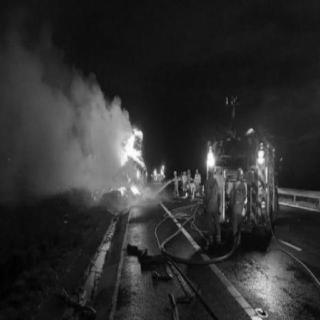Fire: (114, 121, 150, 203)
Smoke: (0, 38, 119, 199)
other: (251, 134, 277, 178), (205, 137, 217, 175)
